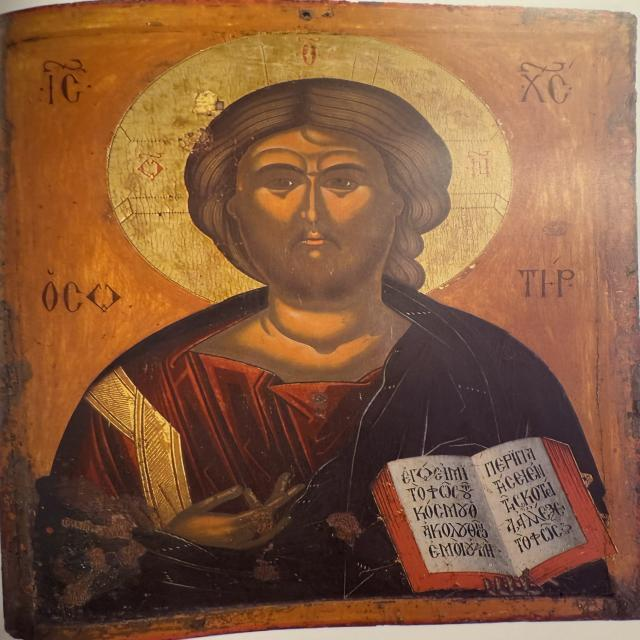aura: (102, 30, 518, 312)
book: (365, 433, 613, 587)
christ: (10, 20, 630, 602)
christ_hand: (121, 446, 308, 574)
